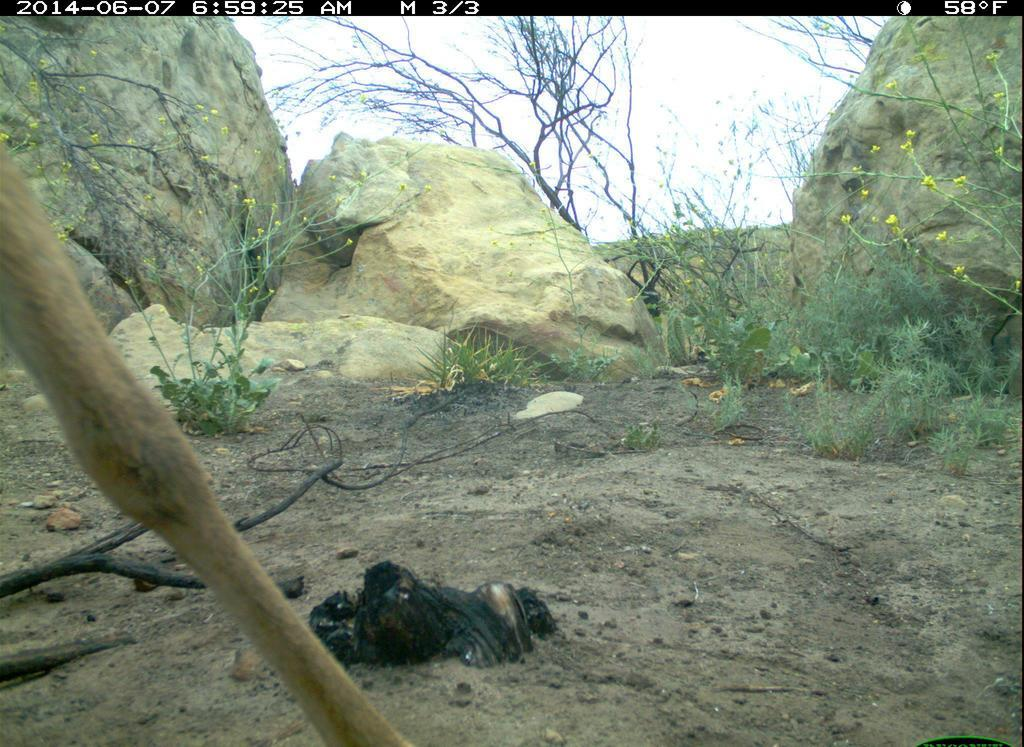deer: (1, 157, 424, 747)
